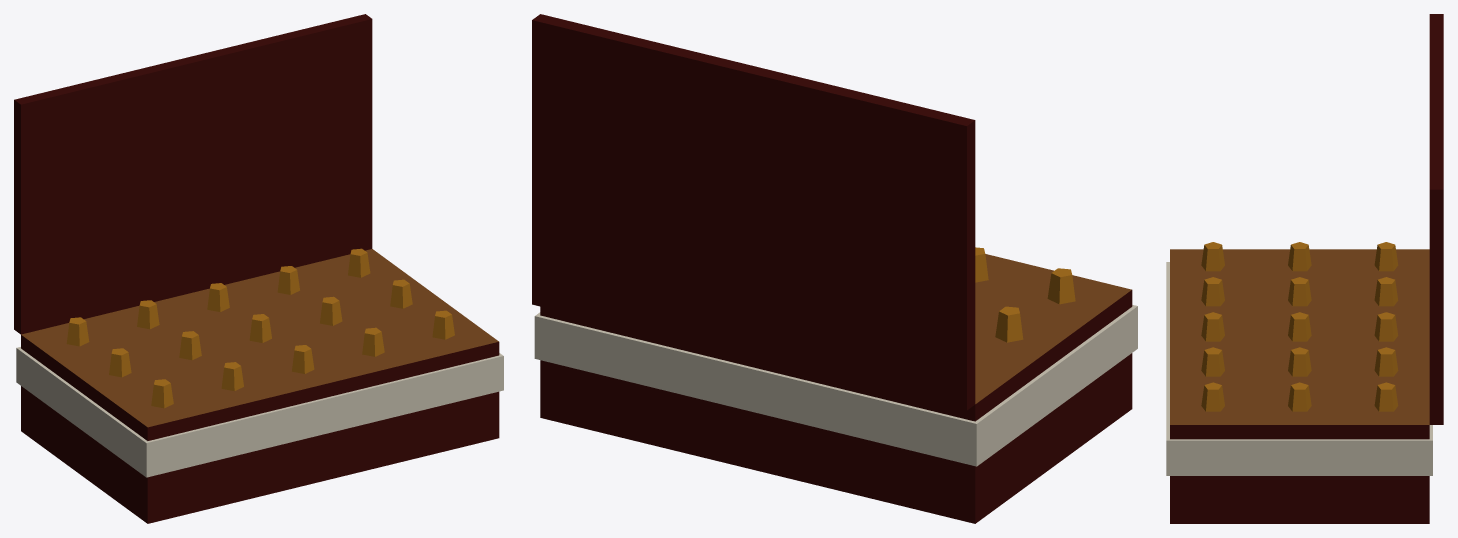
Rendered from SM_Prop_AmmoBox_9mm_Open.glb.
3 renders of one model, left to right at view 1: azimuth 30°, elevation 25°; view 2: azimuth 150°, elevation 25°; view 3: azimuth 270°, elevation 25°, orthographic. The views are drawn at different scales.
Parts seen in each view (by area): view 1: SM_Prop_AmmoBox_9mm_Open; view 2: SM_Prop_AmmoBox_9mm_Open; view 3: SM_Prop_AmmoBox_9mm_Open.
Part boxes in pixels (bbox=[...]): SM_Prop_AmmoBox_9mm_Open: bbox=[14, 14, 503, 523]; SM_Prop_AmmoBox_9mm_Open: bbox=[532, 14, 1137, 523]; SM_Prop_AmmoBox_9mm_Open: bbox=[1166, 14, 1443, 523].
Bounding box in the file's own units: 0.122 × 0.1065 × 0.08.
Materials: 1 (1 with a texture image).
